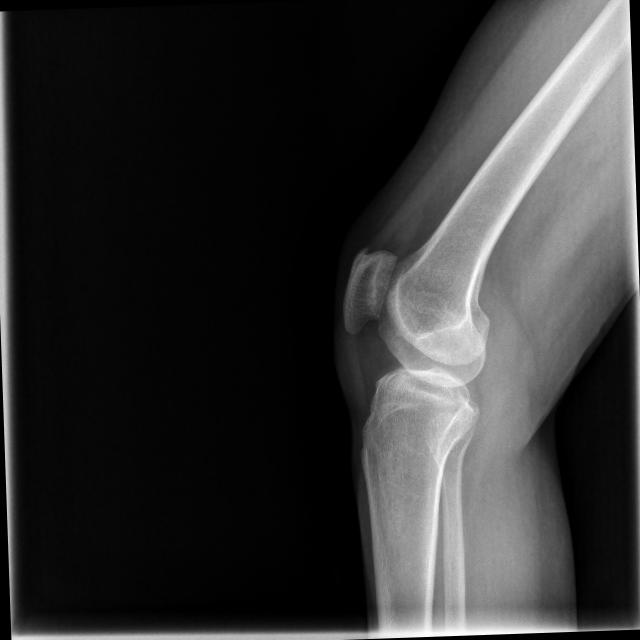Knee: (340, 240, 510, 462)
